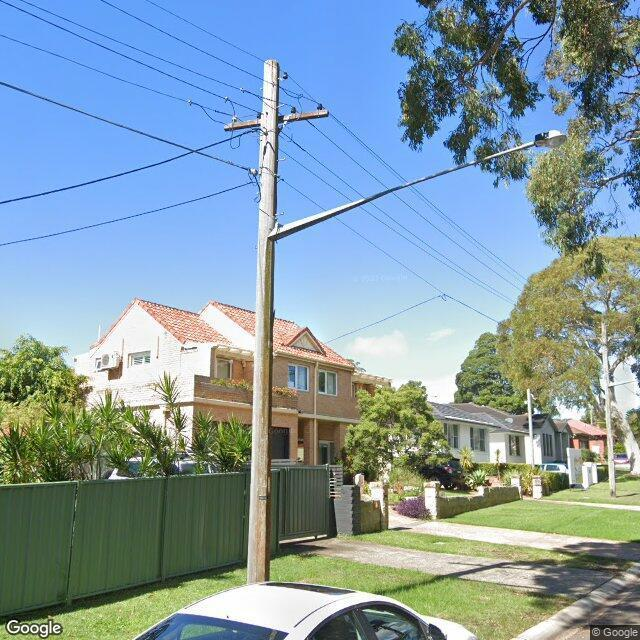crossarm: (224, 108, 329, 132)
steel-pole: (527, 388, 534, 468)
streetlight: (268, 130, 567, 240)
timber-pole: (247, 60, 280, 584), (602, 322, 617, 496)
